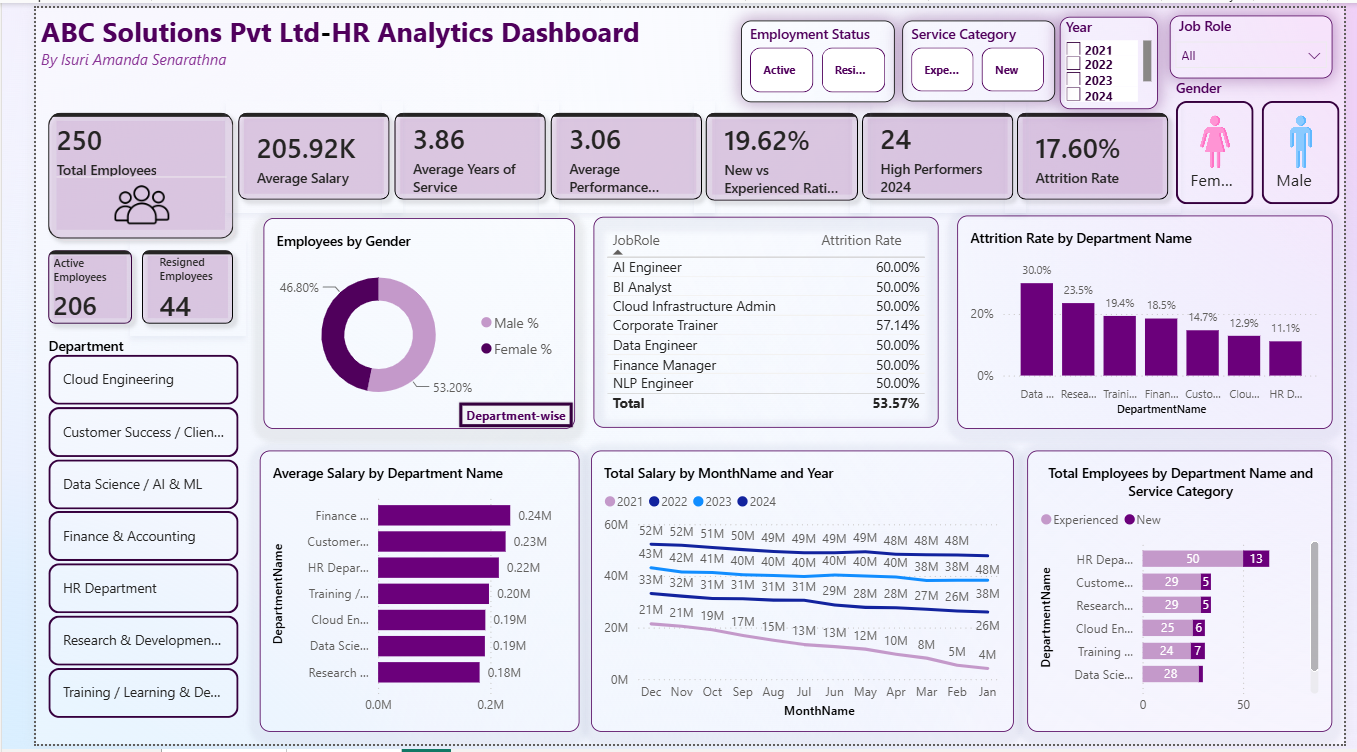

What the dashboard file says about the page in this screenshot:
{"tool":"powerbi","page":{"name":"Dashboard","canvas":[1280,720],"ordinal":0},"visuals":[{"type":"textbox","box":[0,0,639.5,91.7],"z":0},{"type":"cardVisual","fields":{"Data":[" Measures.Total Employees"]},"box":[0,90,205,147.5],"z":1000},{"type":"donutChart","title":"Employees by Gender","fields":{"Y":[" Measures.Male %"," Measures.Female %","select"]},"box":[222.6,205.4,304.5,206.7],"z":2000},{"type":"cardVisual","fields":{"Data":[" Measures.Active Employees"]},"box":[0,225,106.2,96.2],"z":3000},{"type":"cardVisual","fields":{"Data":[" Measures.Resigned Employees"]},"box":[91.2,225,113.8,96.2],"z":4000},{"type":"cardVisual","fields":{"Data":[" Measures.Attrition Rate"]},"box":[948,90,172.9,109.8],"z":5000},{"type":"cardVisual","fields":{"Data":[" Measures.Average Years of Service"]},"box":[339,90,172.9,109.8],"z":6000},{"type":"cardVisual","fields":{"Data":[" Measures.Average Performance Score"]},"box":[491,90,172.9,109.8],"z":7000},{"type":"cardVisual","fields":{"Data":[" Measures.High Performers 2024"]},"box":[796,90,172.9,109.8],"z":8000},{"type":"cardVisual","fields":{"Data":[" Measures.New vs Experienced Ratio %"]},"box":[643,90,173,110],"z":9000},{"type":"cardVisual","fields":{"Data":[" Measures.Average Salary"]},"box":[186,90,172.9,109.8],"z":10000},{"type":"advancedSlicerVisual","title":"Department","fields":{"Values":["DimDepartment.DepartmentName"]},"box":[7.1,321.4,191.4,380],"z":11000},{"type":"barChart","title":"Total Employees by Department Name and Service Category","fields":{"Y":[" Measures.Total Employees"],"Category":["DimDepartment.DepartmentName"],"Series":["DimEmployee.Service Category"]},"box":[969.7,432.9,298.4,275.1],"z":12000},{"type":"tableEx","fields":{"Values":["DimEmployee.JobRole"," Measures.Attrition Rate"]},"box":[545.4,204.2,337.5,206.7],"z":13000},{"type":"lineChart","fields":{"Category":["Dimdate.MonthName"],"Y":[" Measures.Total Salary"],"Series":["Dimdate.Year"]},"box":[542.9,432.9,413.3,275.1],"z":14000},{"type":"barChart","title":"Average Salary by Department Name","fields":{"Y":[" Measures.Average Salary"],"Category":["DimDepartment.DepartmentName"]},"box":[218.9,432.9,313,275.1],"z":15000},{"type":"listSlicer","fields":{"Values":["Dimdate.Year"]},"box":[1001.7,8.2,96.1,90.6],"z":16000},{"type":"advancedSlicerVisual","fields":{"Values":["DimEmployee.Service Category"]},"box":[847,12.3,149.6,79.6],"z":17000},{"type":"advancedSlicerVisual","fields":{"Values":["DimEmployee.Employment Status"]},"box":[690,12.3,150,80],"z":18000},{"type":"slicer","fields":{"Values":["DimEmployee.JobRole"]},"box":[1108.8,6.9,159.2,61.7],"z":19000},{"type":"clusteredColumnChart","title":"Attrition Rate by Department Name","fields":{"Category":["DimDepartment.DepartmentName"],"Y":[" Measures.Attrition Rate"]},"box":[901.4,202.9,367.1,208.6],"z":20000},{"type":"advancedSlicerVisual","fields":{"Values":["DimEmployee.Gender"]},"box":[1110.1,68.6,170.2,129],"z":21000},{"type":"actionButton","box":[412.1,384,114.9,28.1],"z":22000}]}

Visuals, with their boxes in screenshot pixels (x1, y1, x2, y2), scaled from the page's 1280x720 canvas onto the 1357x752 screenshot:
textbox: [0,0,678,96]
cardVisual -  Measures.Total Employees: [0,94,217,248]
"Employees by Gender" donutChart: [236,215,559,430]
cardVisual -  Measures.Active Employees: [0,235,113,335]
cardVisual -  Measures.Resigned Employees: [97,235,217,335]
cardVisual -  Measures.Attrition Rate: [1005,94,1188,209]
cardVisual -  Measures.Average Years of Service: [359,94,543,209]
cardVisual -  Measures.Average Performance Score: [521,94,704,209]
cardVisual -  Measures.High Performers 2024: [844,94,1027,209]
cardVisual -  Measures.New vs Experienced Ratio %: [682,94,865,209]
cardVisual -  Measures.Average Salary: [197,94,380,209]
"Department" advancedSlicerVisual: [8,336,210,733]
"Total Employees by Department Name and Service Category" barChart: [1028,452,1344,739]
tableEx - DimEmployee.JobRole x  Measures.Attrition Rate: [578,213,936,429]
lineChart - Dimdate.MonthName x  Measures.Total Salary: [576,452,1014,739]
"Average Salary by Department Name" barChart: [232,452,564,739]
listSlicer - Dimdate.Year: [1062,9,1164,103]
advancedSlicerVisual - DimEmployee.Service Category: [898,13,1057,96]
advancedSlicerVisual - DimEmployee.Employment Status: [732,13,891,96]
slicer - DimEmployee.JobRole: [1176,7,1344,72]
"Attrition Rate by Department Name" clusteredColumnChart: [956,212,1345,430]
advancedSlicerVisual - DimEmployee.Gender: [1177,72,1356,206]
actionButton: [437,401,559,430]
